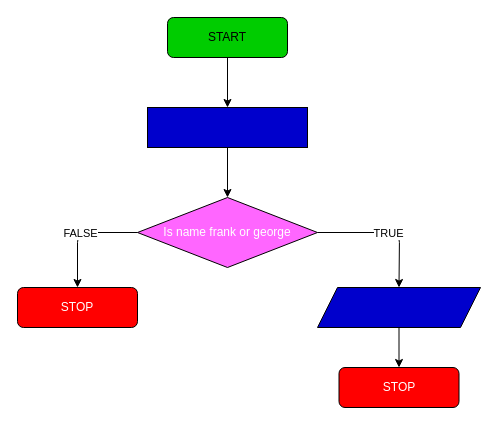
The diagram is 498 pixels wide and 425 high, and some of its shapes have lost their labels. Here are the shapes that lost their labels. From the top down, the box of each, then its label:
(146, 106, 308, 148): Declare variable name
(316, 286, 480, 328): Print Hello name
